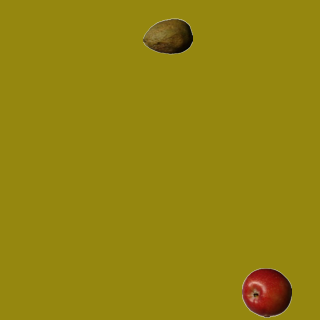Apple Braeburn: (241, 267, 291, 317)
Papaya: (142, 11, 192, 61)
